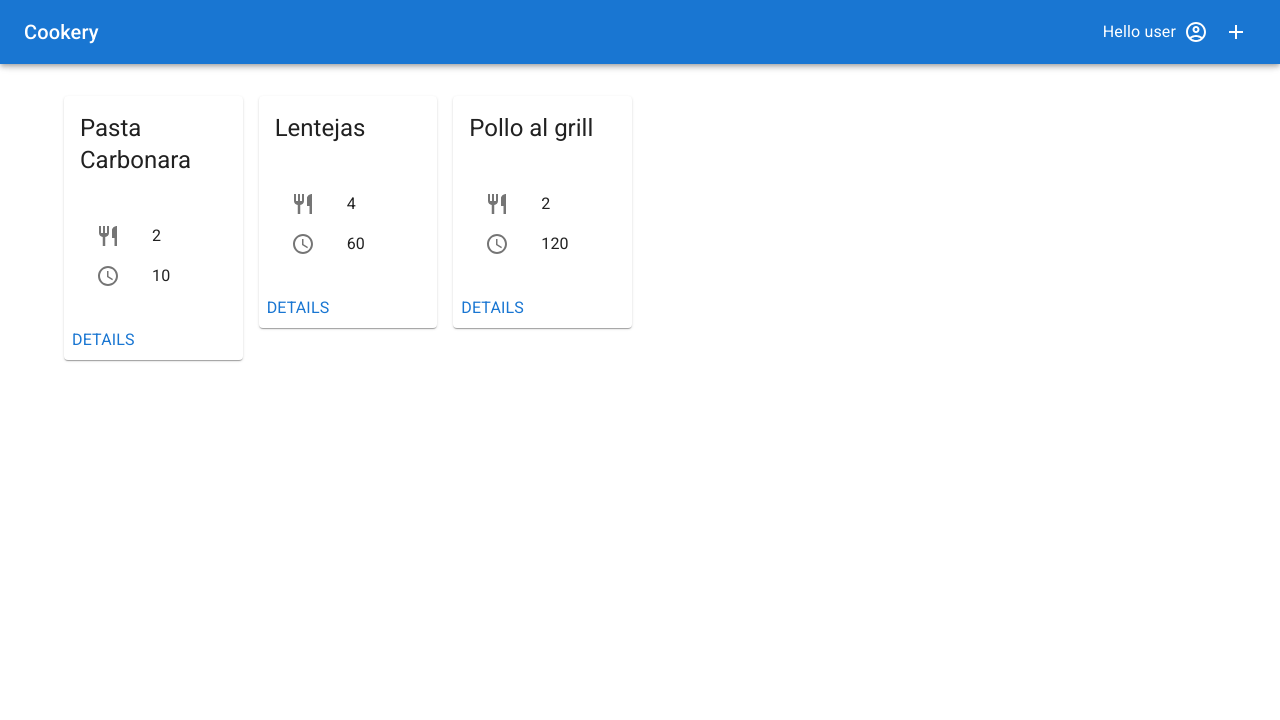
App › renders a recipe list
The width and height of the screenshot is (1280, 720).
Expected: the element with test id "recipe-list" is shown, [64,96,632,360]
Expected: the text "Pasta Carbonara" is shown, [80,114,191,174]
Step 1. Click the link "DETAILS" below "10" → (103, 340), box [72,328,135,352]
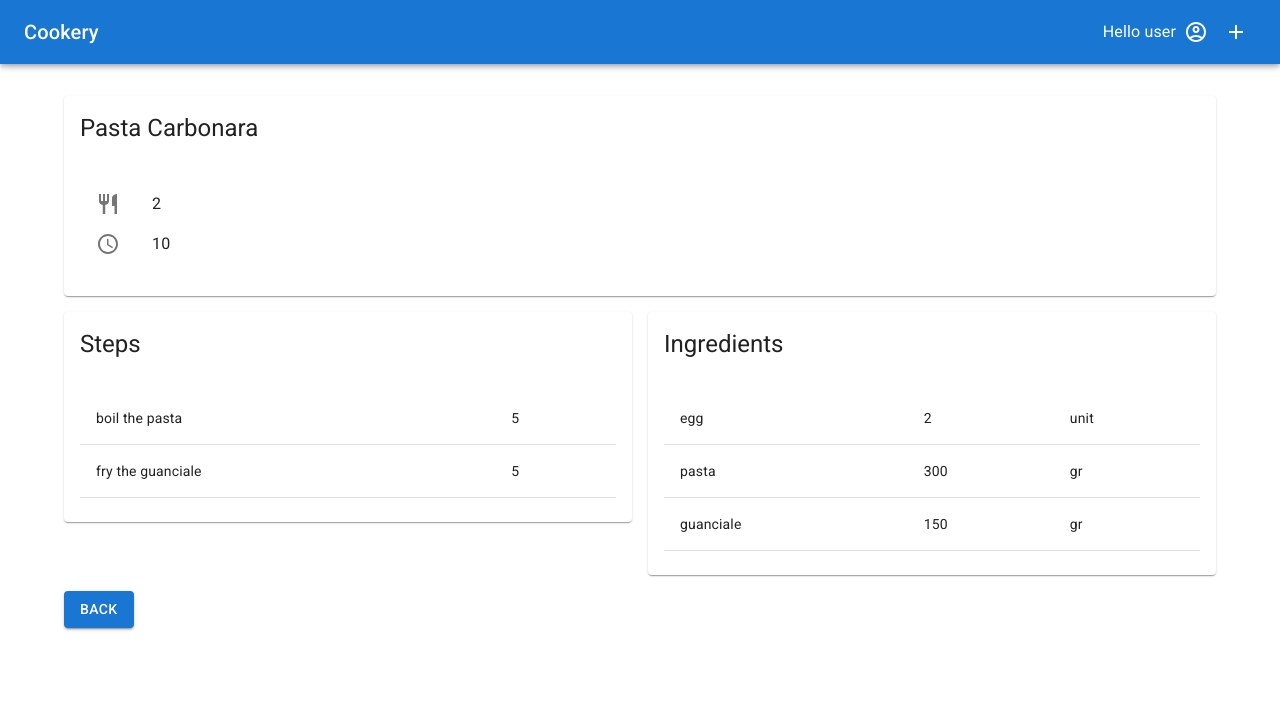
Expected: the text "Steps" is shown, [80,330,141,358]
Expected: the text "Ingredients" is shown, [664,330,784,358]
Expected: the text "egg" is shown, [664,392,908,444]
//  Go back
Step 2. Click the button "Back" → (99, 609), box [64,591,134,628]
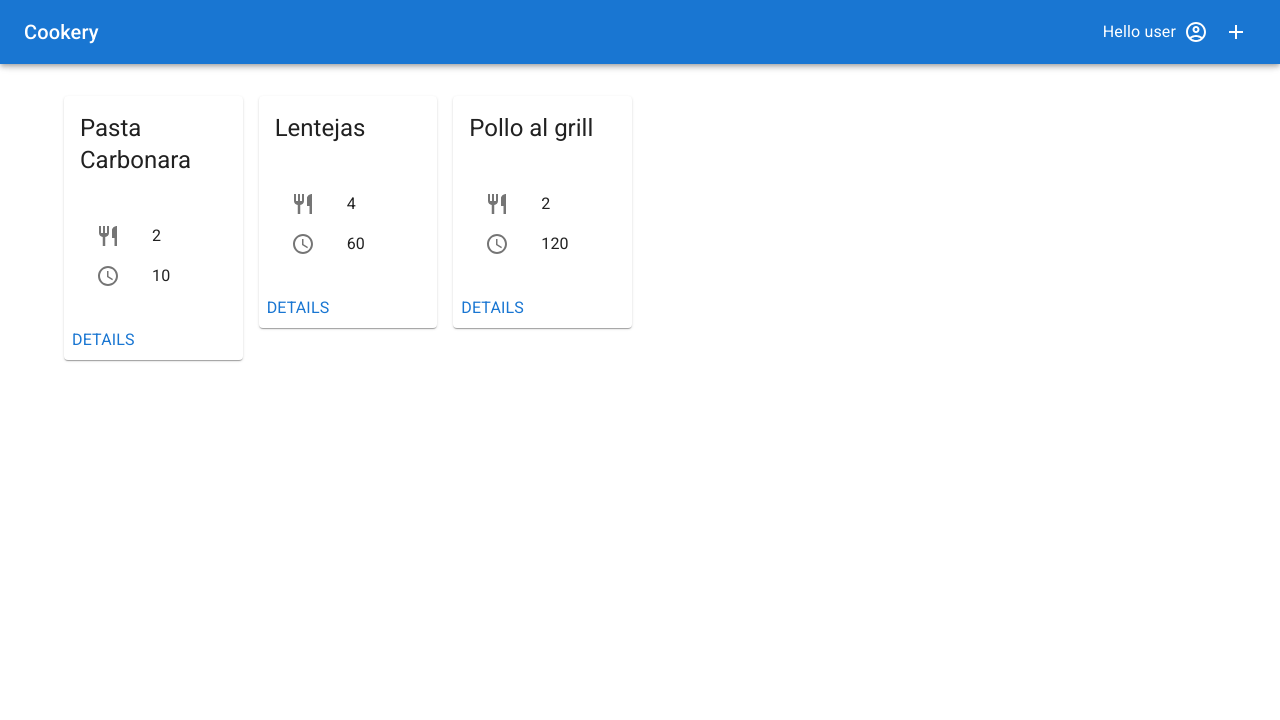
Expected: the element with test id "recipe-list" is shown, [64,96,632,360]
